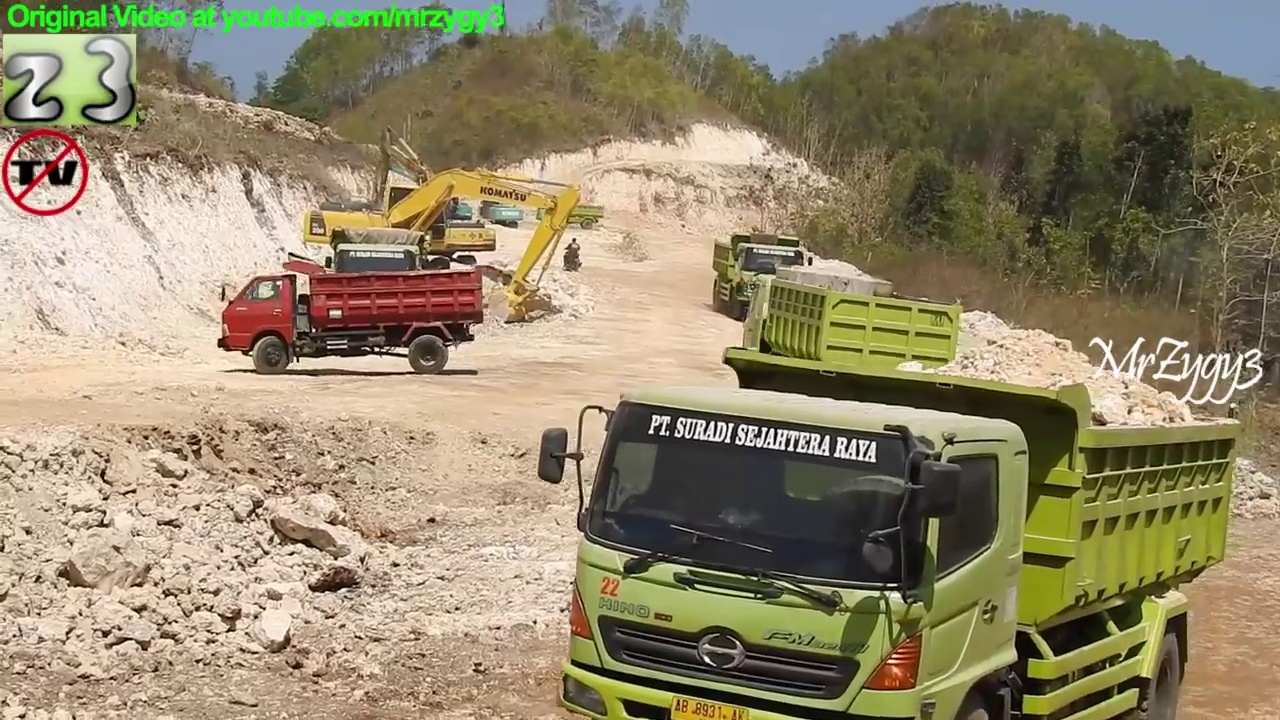excavator: (298, 167, 581, 330), (355, 126, 505, 271), (360, 145, 482, 243), (475, 164, 527, 231)
truck: (531, 344, 1246, 720), (737, 265, 967, 421), (216, 250, 489, 376), (709, 228, 820, 328), (536, 192, 607, 234)
